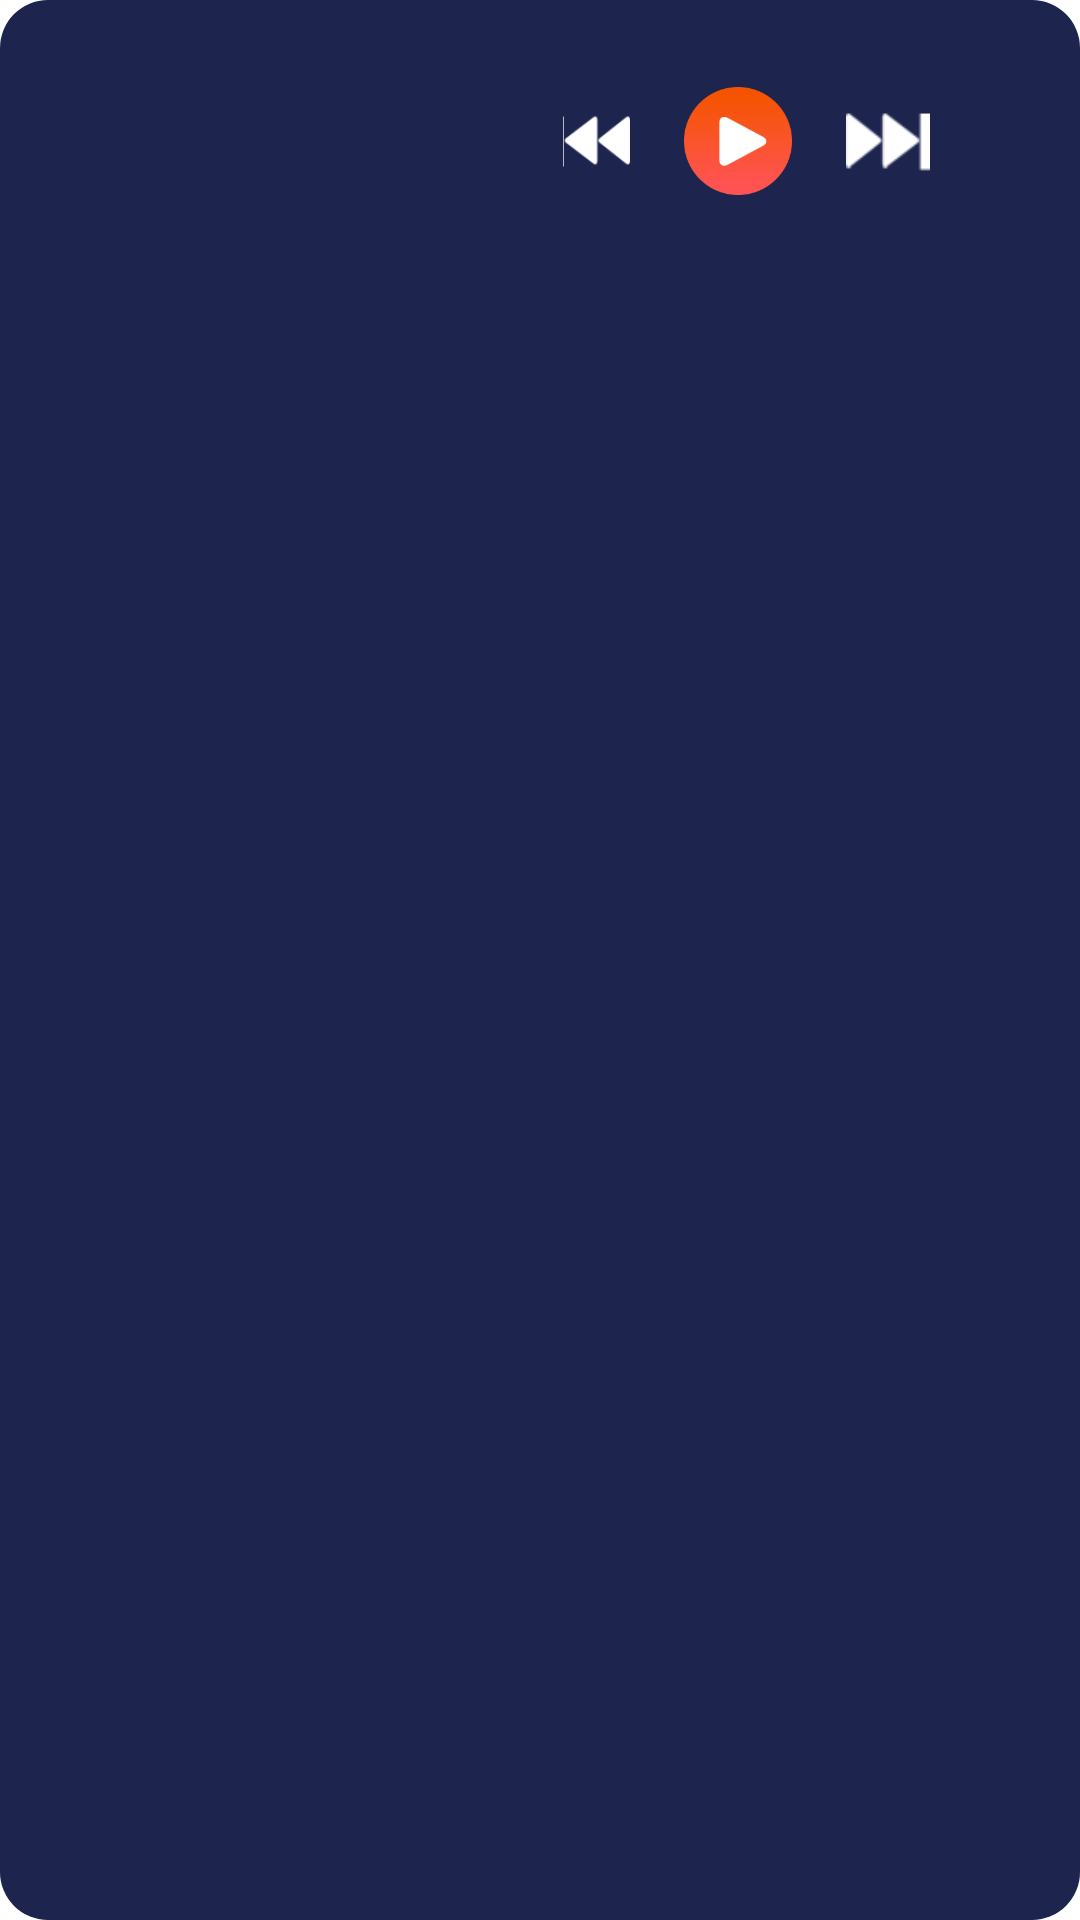

Named icons in this screenshot (1080×1920) and their centers, point (x, y):
next widget: point (888, 142)
play max: point (738, 141)
